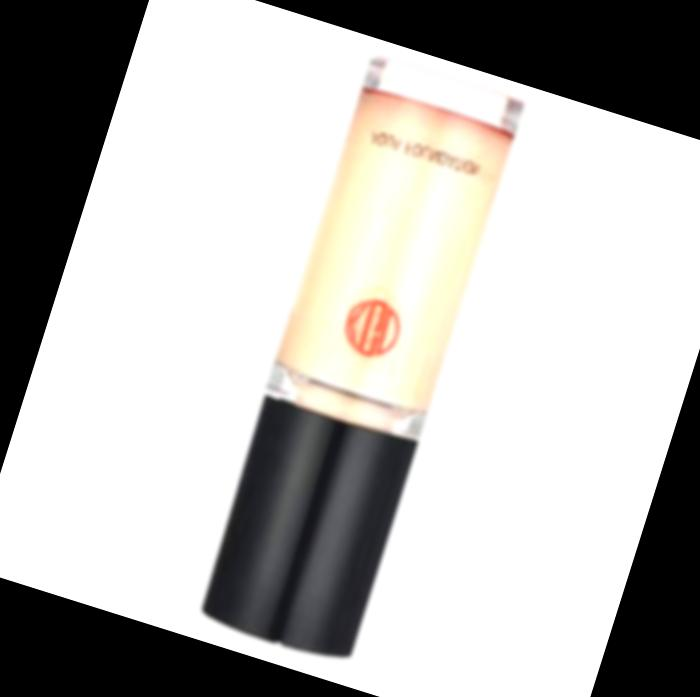cosmetic: (191, 48, 531, 667)
